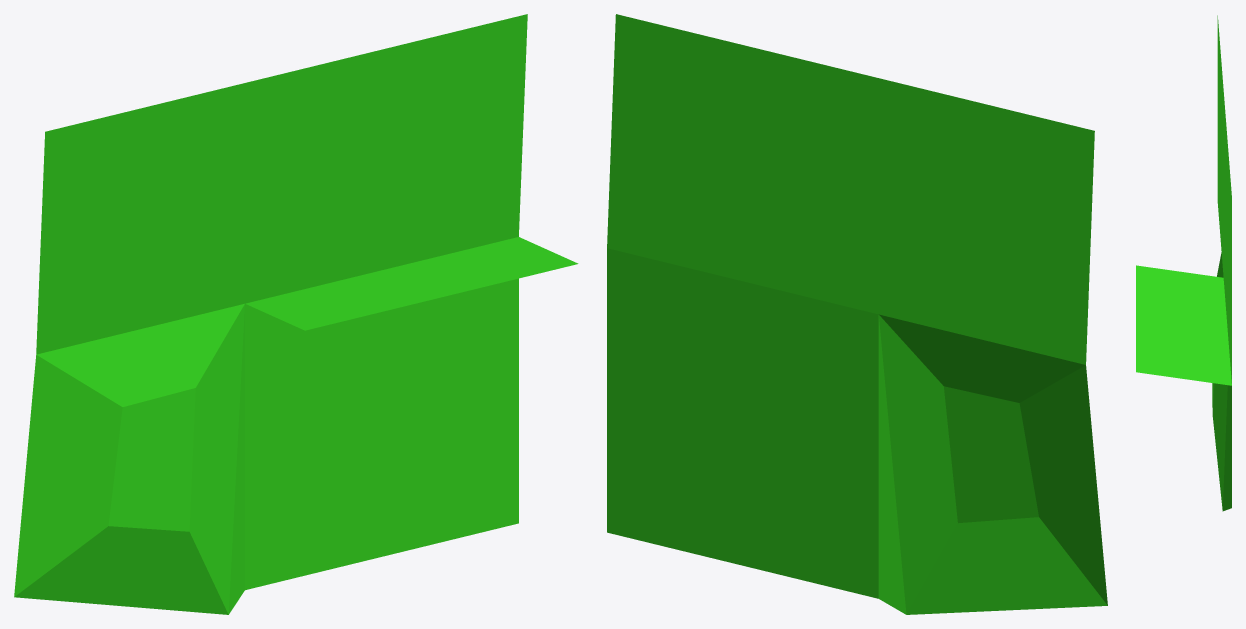
File: world_1.glb
3 renders of one model, left to right at view 1: azimuth 30°, elevation 25°; view 2: azimuth 150°, elevation 25°; view 3: azimuth 270°, elevation 25°, orthographic. The views are drawn at different scales.
Visible parts, largest first — view 1: world; view 2: world; view 3: world.
Boxes of the visible parts, x1=… form: world: x1=14, y1=14, x2=578, y2=614; world: x1=607, y1=14, x2=1107, y2=614; world: x1=1136, y1=15, x2=1231, y2=511.
Bounding box in the file's own units: 98.02 × 98.54 × 20.19.
Materials: 1 (1 with a texture image).
